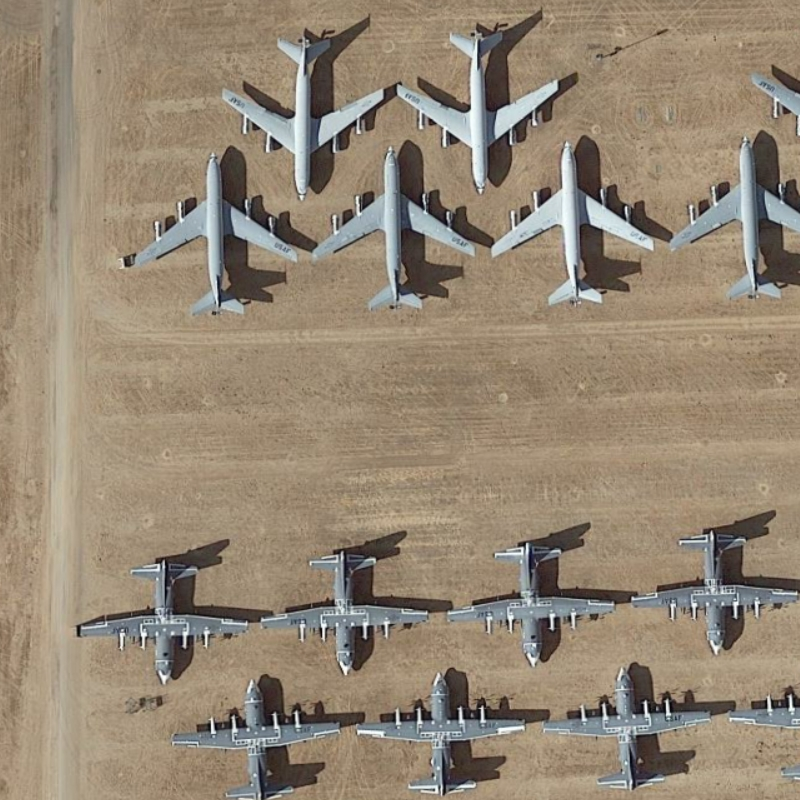A14: (127, 146, 313, 328), (393, 16, 577, 195), (310, 139, 481, 322), (484, 135, 659, 312), (222, 17, 389, 200), (663, 129, 800, 307)
A2: (64, 550, 257, 685), (533, 656, 724, 791), (170, 666, 347, 800), (626, 523, 800, 656), (351, 662, 528, 792), (266, 544, 435, 680), (443, 538, 620, 667)
